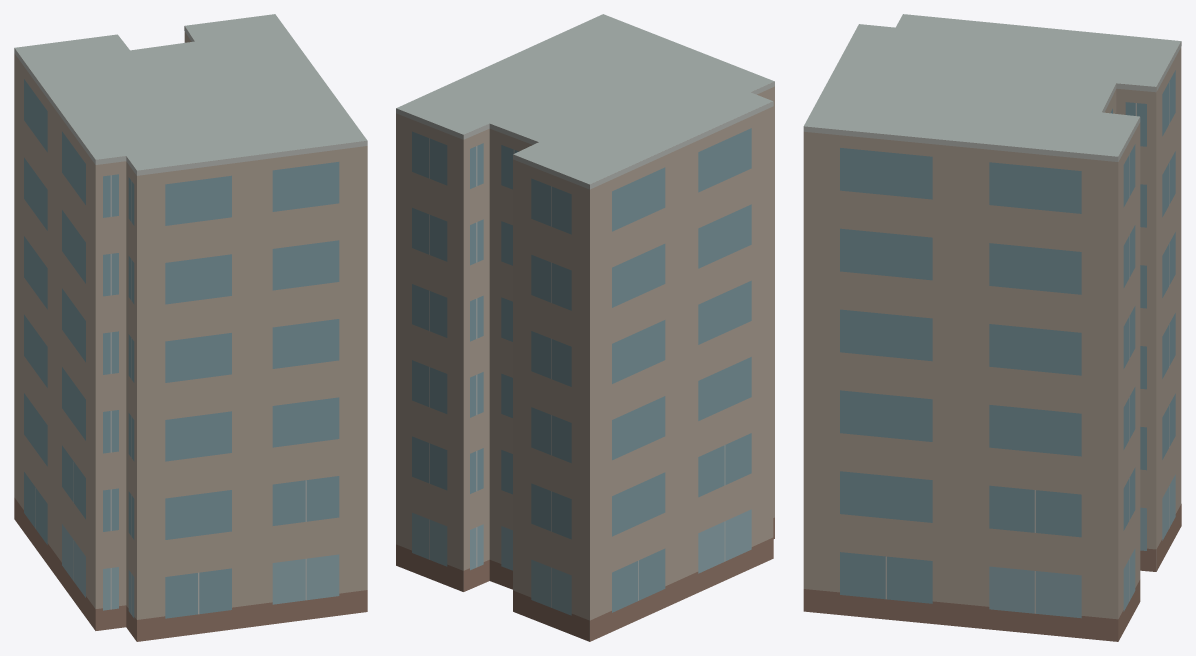
The model's file is survey-upis-32913735.glb.
The picture shows the model from 3 angles, left to right: view 1: azimuth 30°, elevation 25°; view 2: azimuth 150°, elevation 25°; view 3: azimuth 270°, elevation 25°; orthographic projection. The views are drawn at different scales.
Visible parts, largest first — view 1: survey-upis-32913735.tmp; view 2: survey-upis-32913735.tmp; view 3: survey-upis-32913735.tmp.
Boxes of the visible parts, box(x1,y1,x2,y2) form: survey-upis-32913735.tmp: box(14, 14, 367, 641); survey-upis-32913735.tmp: box(396, 14, 774, 641); survey-upis-32913735.tmp: box(803, 14, 1181, 641).
Size of the model in its own units: 13.96 by 22.1 by 15.61.
